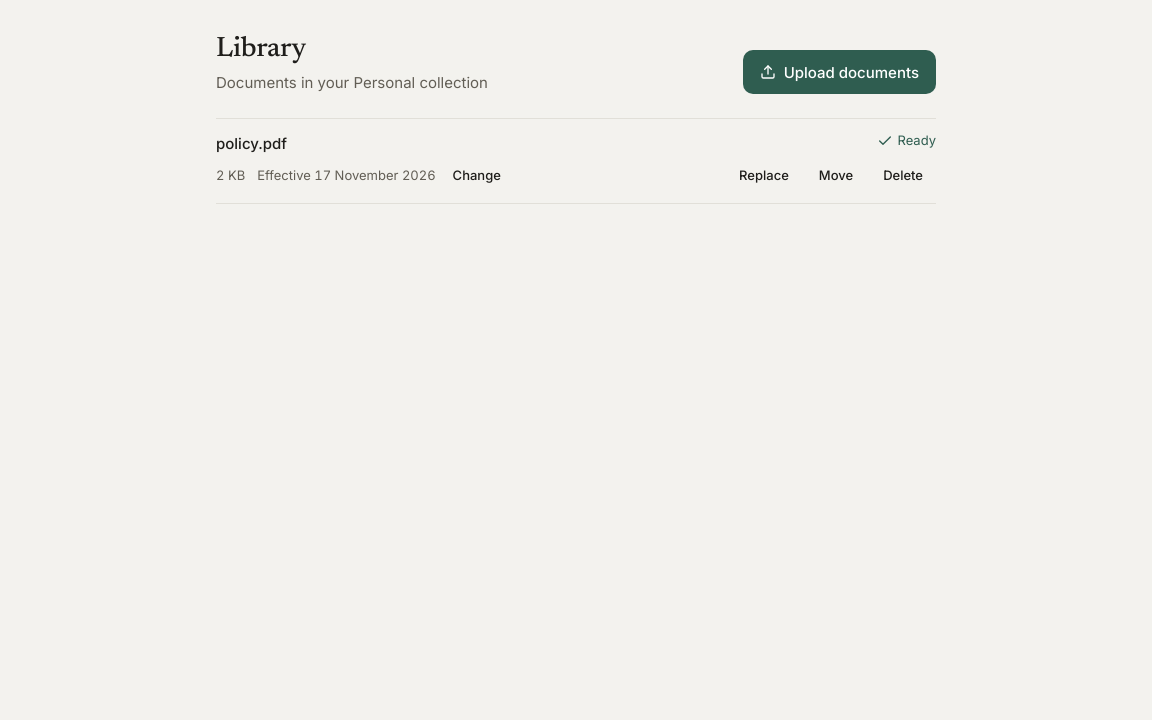
Test: Moving a Document › keeps the dialog open and says why when it can't move
Click the button with aria-label "Move policy.pdf" at [836, 175], box [806, 159, 866, 191]
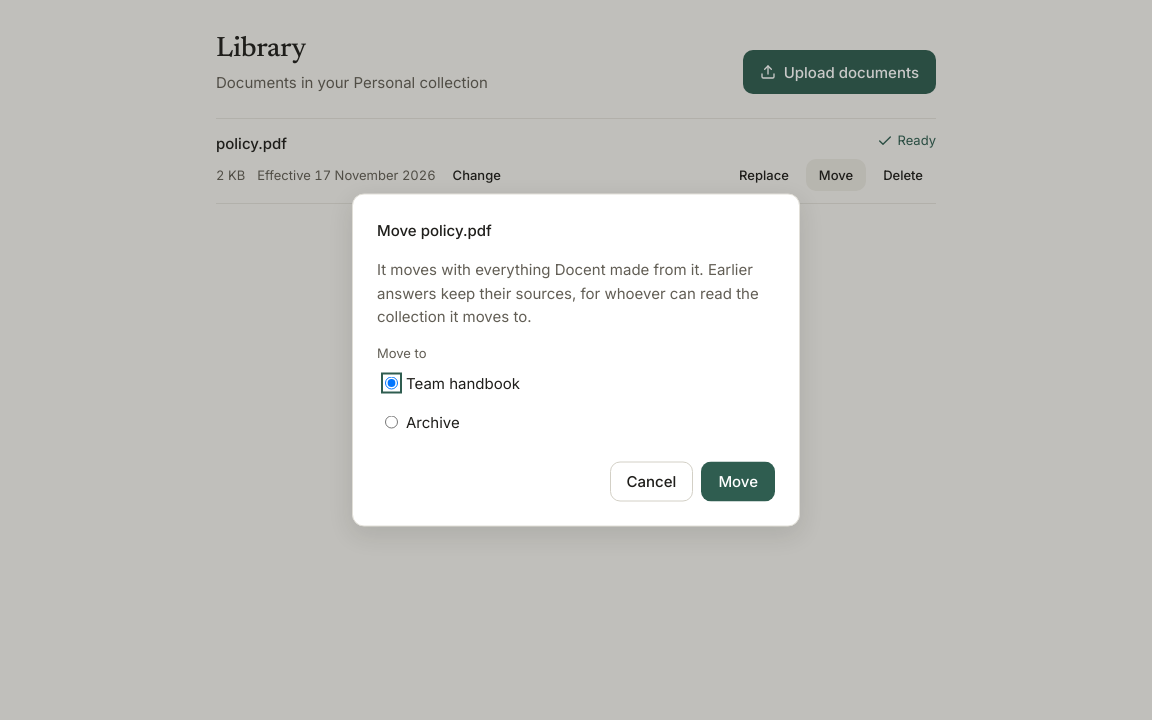
Click the button "Move" at [738, 482], box [701, 462, 775, 502]
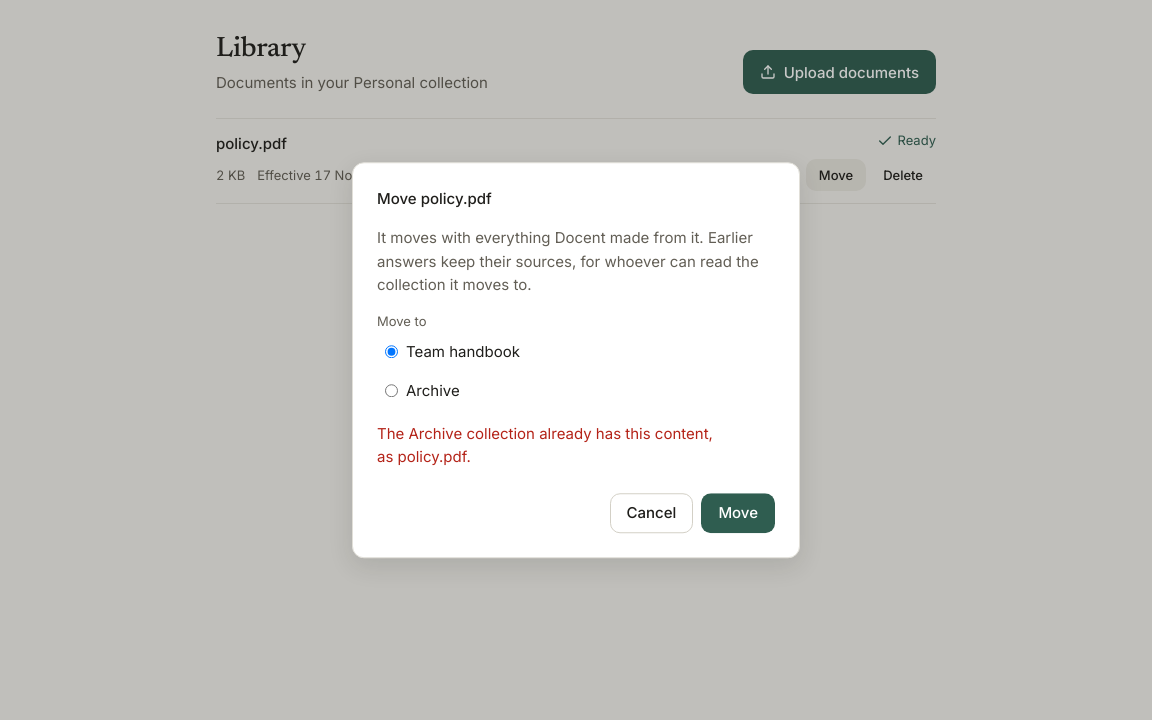
Check: the text "policy.pdf" is shown, box [216, 132, 287, 155]
Check: the message shows "already has", box [377, 424, 713, 467]
